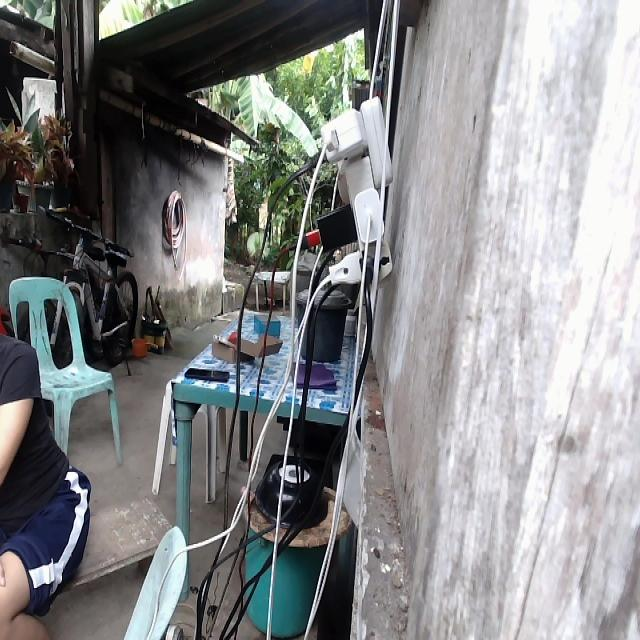-: (311, 93, 395, 296)
